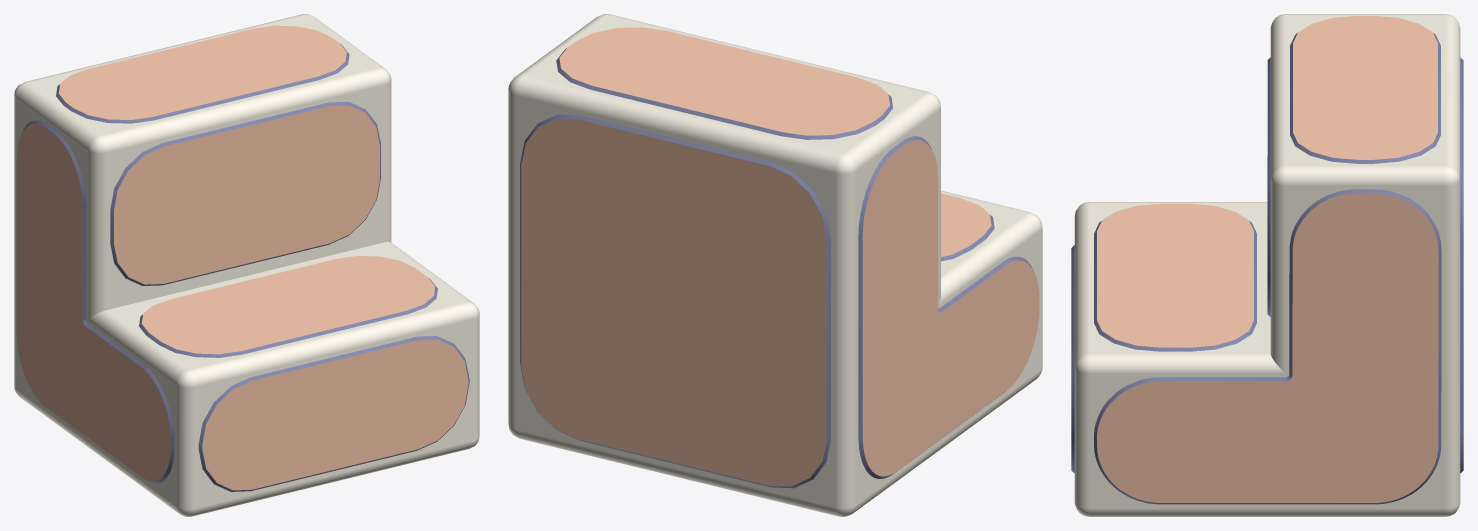
Rendered from R4B_Step.fbx.
The picture shows the model from 3 angles, left to right: view 1: azimuth 30°, elevation 25°; view 2: azimuth 150°, elevation 25°; view 3: azimuth 270°, elevation 25°; orthographic projection. The views are drawn at different scales.
Parts seen in each view (by area): view 1: R4B_Step; view 2: R4B_Step; view 3: R4B_Step.
Part boxes in pixels (<box>): R4B_Step: <box>14,14,479,516</box>; R4B_Step: <box>508,14,1042,516</box>; R4B_Step: <box>1071,14,1463,516</box>.
Bounding box in the file's own units: 0.52 × 0.52 × 0.52.
